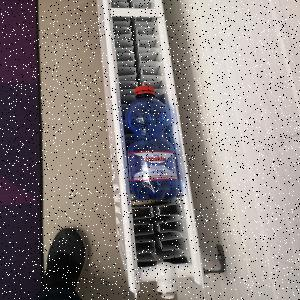Plastic-bottle: (128, 86, 182, 202)
